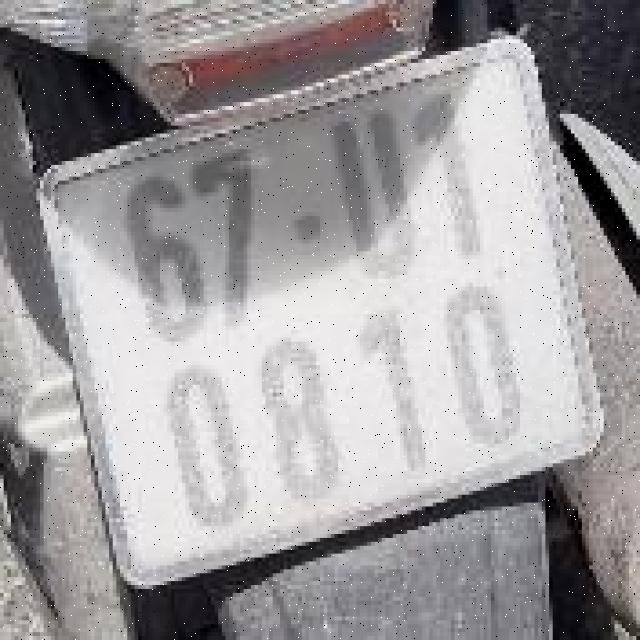0: (430, 268, 543, 476), (149, 349, 265, 549)
1: (352, 294, 441, 513), (406, 80, 497, 290)
6: (98, 157, 223, 359)
7: (184, 127, 269, 353)
8: (245, 324, 363, 524)
U: (306, 83, 441, 306)
